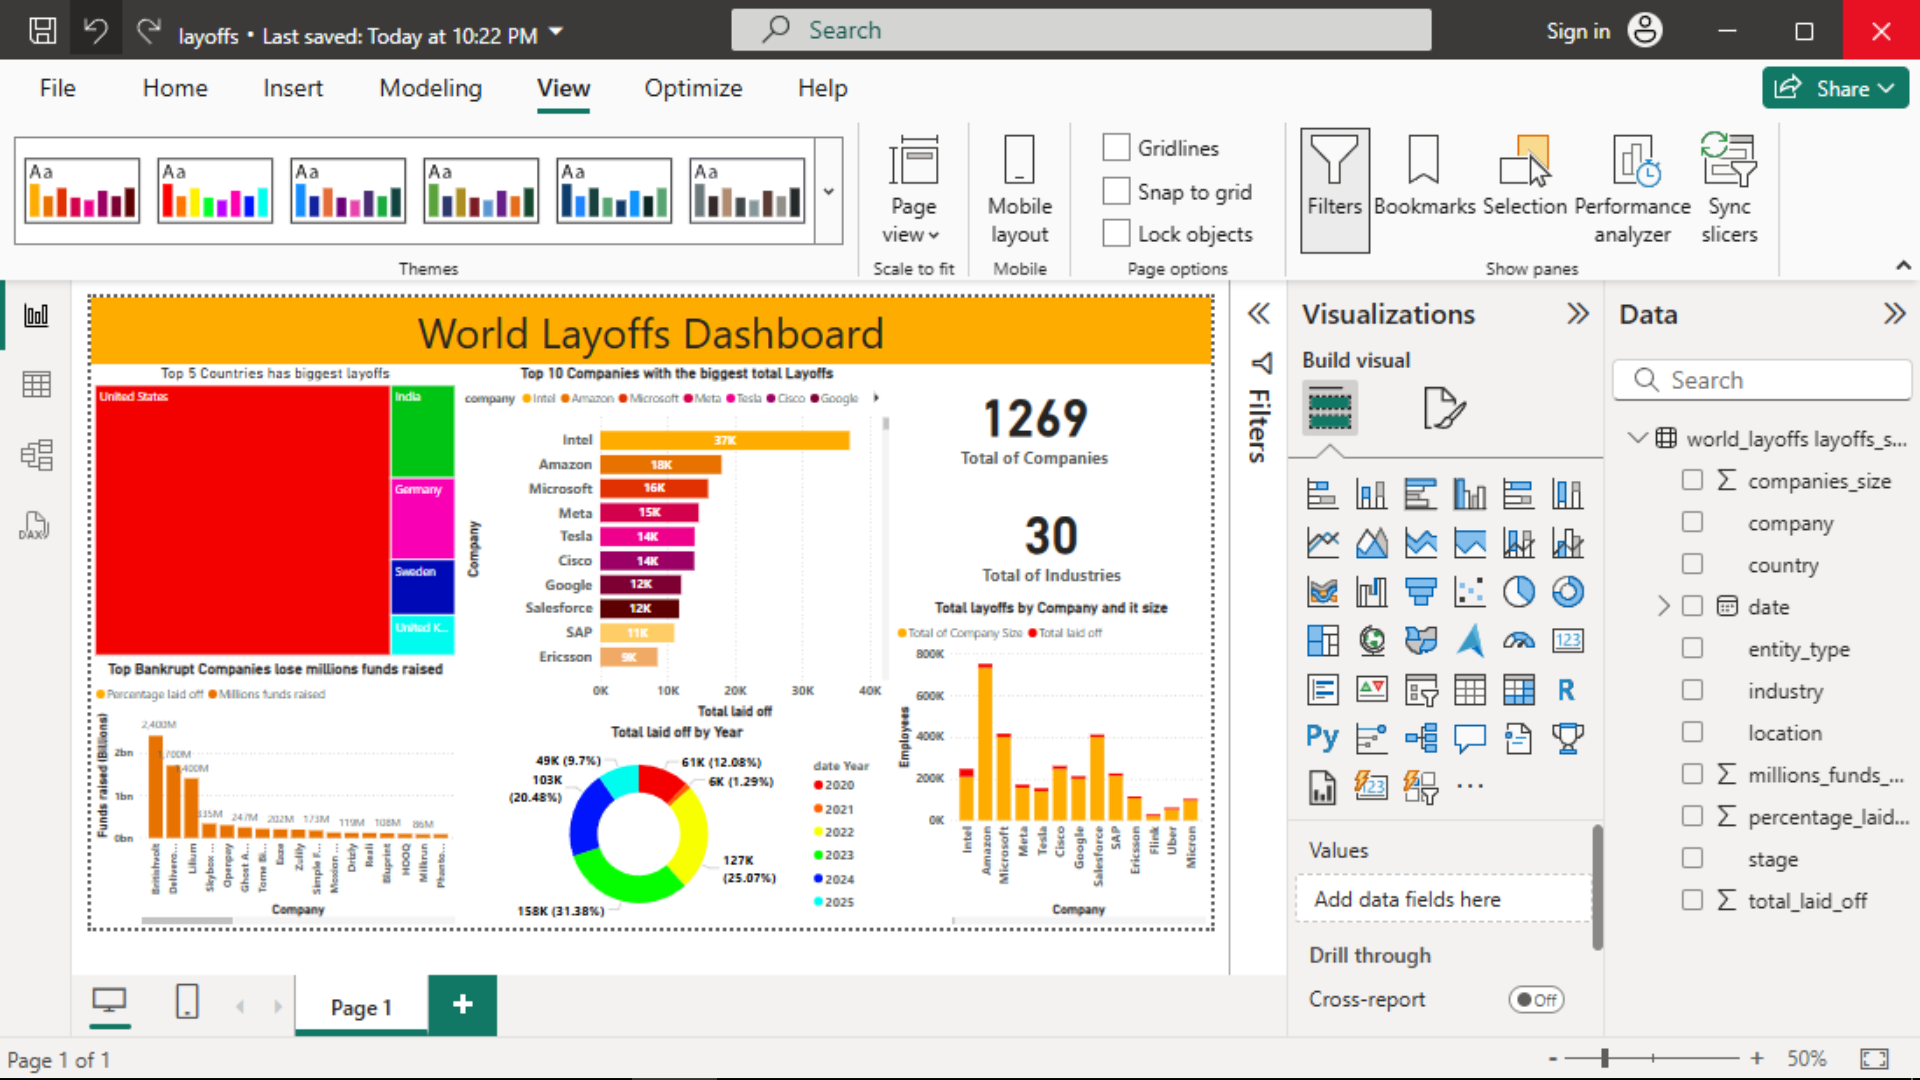

The page's visual inventory and layout, read from the dashboard file:
{"tool":"powerbi","page":{"name":"Page 1","canvas":[1280,720],"ordinal":0},"visuals":[{"type":"textbox","box":[0,0,1280,75.5],"z":0},{"type":"card","fields":{"Values":["Count(world_layoffs layoffs_staging.company)"]},"box":[876,75.8,404,132.1],"z":1000},{"type":"barChart","title":"Top 10 Companies with the biggest total Layoffs","fields":{"Category":["world_layoffs layoffs_staging.company"],"Y":["Sum(world_layoffs layoffs_staging.total_laid_off)"],"Series":["world_layoffs layoffs_staging.company"]},"box":[421.5,75.8,495.3,409.8],"z":2000},{"type":"columnChart","title":"Total layoffs by Company and it size","fields":{"Category":["world_layoffs layoffs_staging.company","world_layoffs layoffs_staging.date.Variation.Date Hierarchy.Year"],"Y":["Sum(world_layoffs layoffs_staging.companies_size)","Sum(world_layoffs layoffs_staging.total_laid_off)"]},"box":[916.8,343.8,363.2,376.8],"z":3000},{"type":"donutChart","fields":{"Category":["world_layoffs layoffs_staging.date.Variation.Date Hierarchy.Year"],"Y":["Sum(world_layoffs layoffs_staging.total_laid_off)"]},"box":[421.5,485.6,495.3,235],"z":4000},{"type":"columnChart","title":"Top Bankrupt Companies lose millions funds raised","fields":{"Category":["world_layoffs layoffs_staging.company"],"Y":["Sum(world_layoffs layoffs_staging.percentage_laid_off)","Sum(world_layoffs layoffs_staging.millions_funds_raised)"]},"box":[0,413.7,421.5,306.9],"z":5000},{"type":"treemap","title":"Top 5 Countries has biggest layoffs","fields":{"Group":["world_layoffs layoffs_staging.country"],"Values":["Sum(world_layoffs layoffs_staging.total_laid_off)"]},"box":[0,75.8,421.5,338],"z":6000},{"type":"card","fields":{"Values":["Count(world_layoffs layoffs_staging.industry)"]},"box":[916.8,207.8,363.2,136],"z":7000}]}

Visuals, with their boxes on the page's 1280x720 design canvas (x1, y1, x2, y2). These are canvas units, not pixel positions in the 1920x1080 screenshot, which may show the page scaled, cropped or inside an application window:
textbox: (0,0,1280,76)
card - Count(world_layoffs layoffs_staging.company): (876,76,1280,208)
"Top 10 Companies with the biggest total Layoffs" barChart: (422,76,917,486)
"Total layoffs by Company and it size" columnChart: (917,344,1280,721)
donutChart - world_layoffs layoffs_staging.date.Variation.Date Hierarchy.Year x Sum(world_layoffs layoffs_staging.total_laid_off): (422,486,917,721)
"Top Bankrupt Companies lose millions funds raised" columnChart: (0,414,422,721)
"Top 5 Countries has biggest layoffs" treemap: (0,76,422,414)
card - Count(world_layoffs layoffs_staging.industry): (917,208,1280,344)
